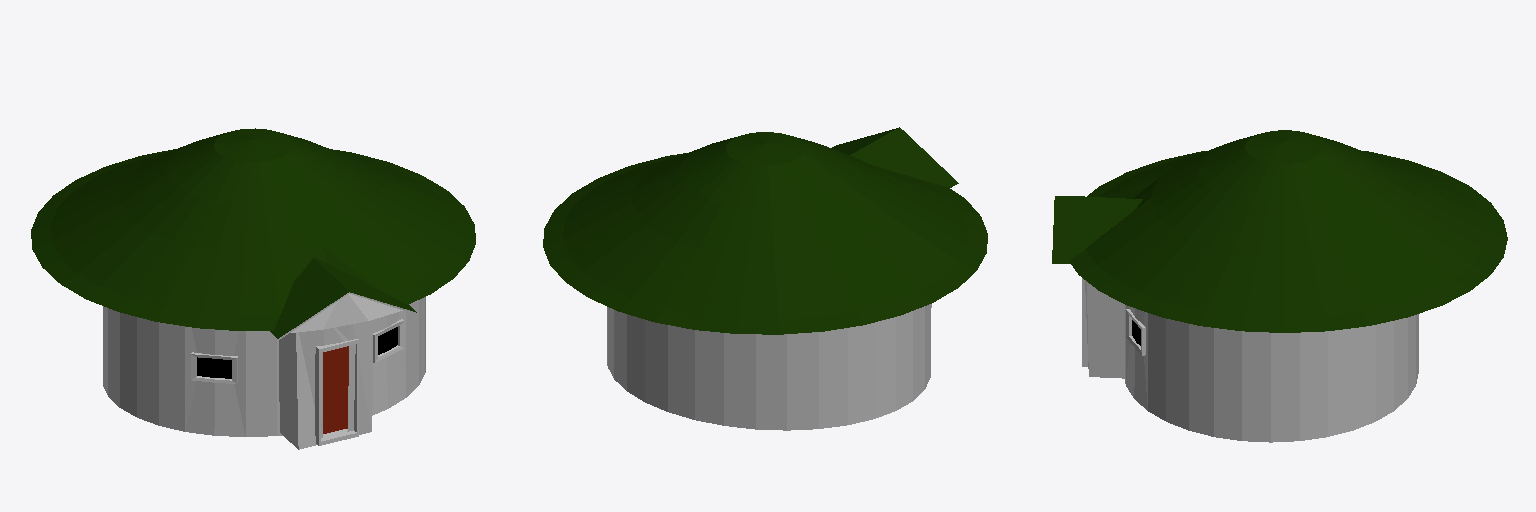
File: CasaTribal.mtl.obj
3 renders of one model, left to right at view 1: azimuth 30°, elevation 25°; view 2: azimuth 150°, elevation 25°; view 3: azimuth 270°, elevation 25°, orthographic.
Visible parts, largest first — view 1: Cone, Cylinder.004, ParteDaFrente, TelhadoDaFrente, PORTA.001, ParteDaFrente.001, PORTA, Cylinder.003, Janela2, Janela1; view 2: Cone, Cylinder.004, TelhadoDaFrente; view 3: Cone, Cylinder.004, TelhadoDaFrente, ParteDaFrente.
Boxes of the visible parts, x1,y1,x2,y2 form: Cone: [31, 128, 475, 330]; Cylinder.004: [103, 297, 425, 436]; ParteDaFrente: [279, 320, 372, 449]; TelhadoDaFrente: [270, 257, 416, 338]; PORTA.001: [323, 346, 348, 433]; ParteDaFrente.001: [279, 292, 415, 339]; PORTA: [315, 339, 358, 445]; Cylinder.003: [197, 357, 231, 378]; Janela2: [191, 352, 237, 383]; Janela1: [373, 319, 404, 362]; Cone: [543, 132, 987, 334]; Cylinder.004: [607, 304, 930, 430]; TelhadoDaFrente: [832, 127, 958, 187]; Cone: [1069, 130, 1507, 332]; Cylinder.004: [1125, 305, 1418, 442]; TelhadoDaFrente: [1052, 196, 1142, 263]; ParteDaFrente: [1085, 280, 1124, 378].
Size of the model in its own units: 42.48 by 24 by 43.4.